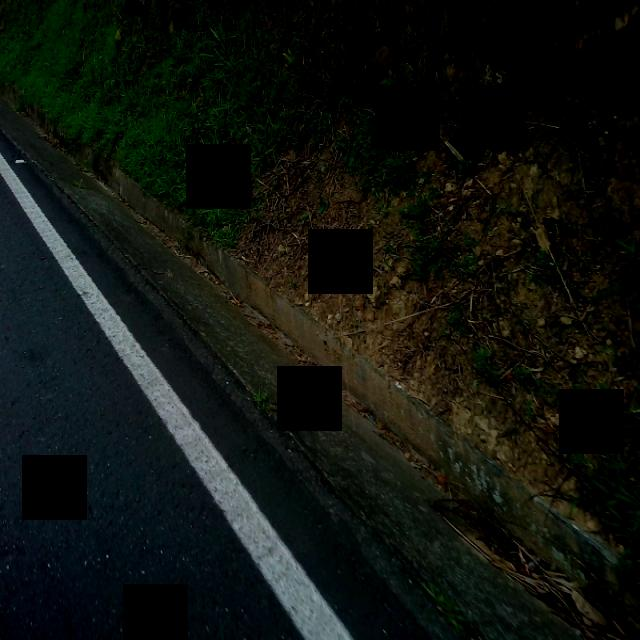DITCH: (1, 15, 638, 639), (2, 96, 637, 638)
